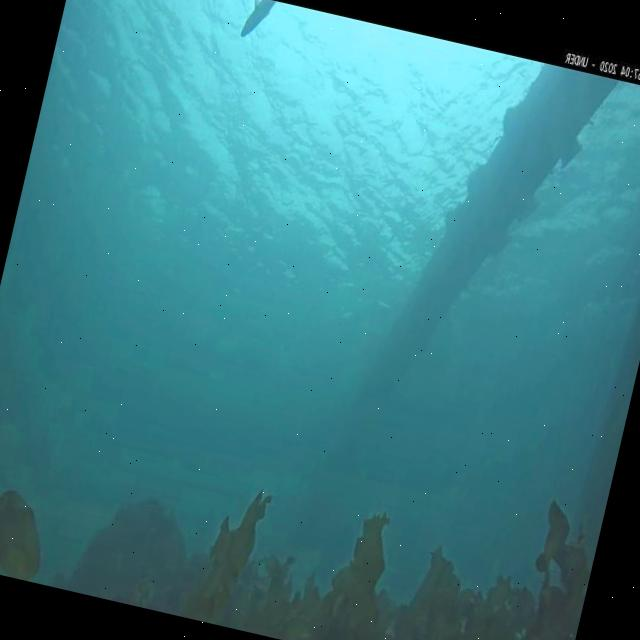fish: (237, 0, 276, 44)
